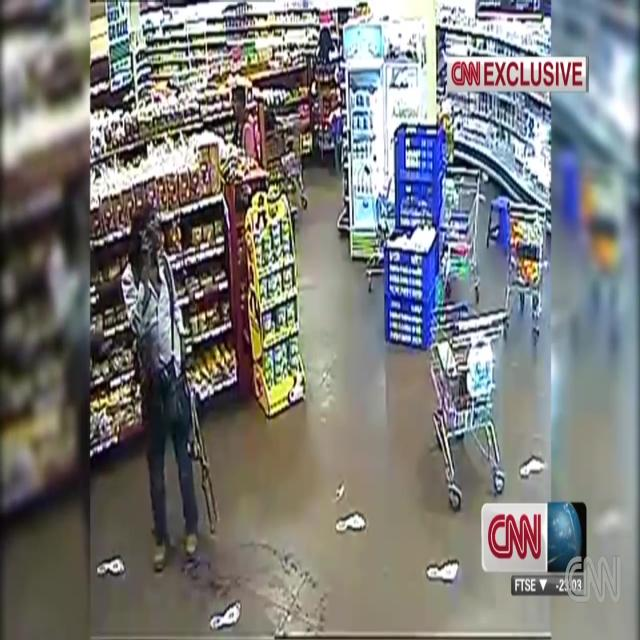Weapon: (170, 343, 230, 536)
